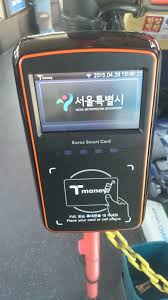terminal: (11, 29, 163, 236)
